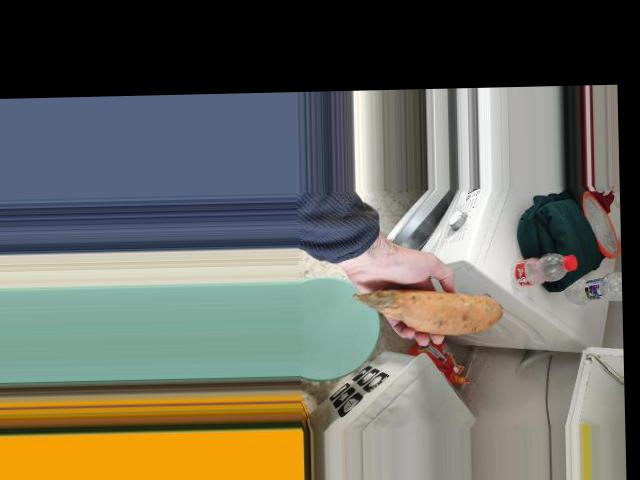sweet_potato: (338, 297, 497, 343)
